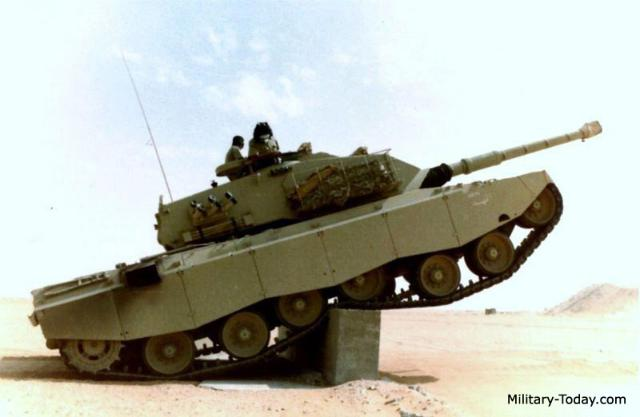other: (252, 121, 276, 154), (227, 132, 243, 161)
tank: (29, 157, 567, 378)
